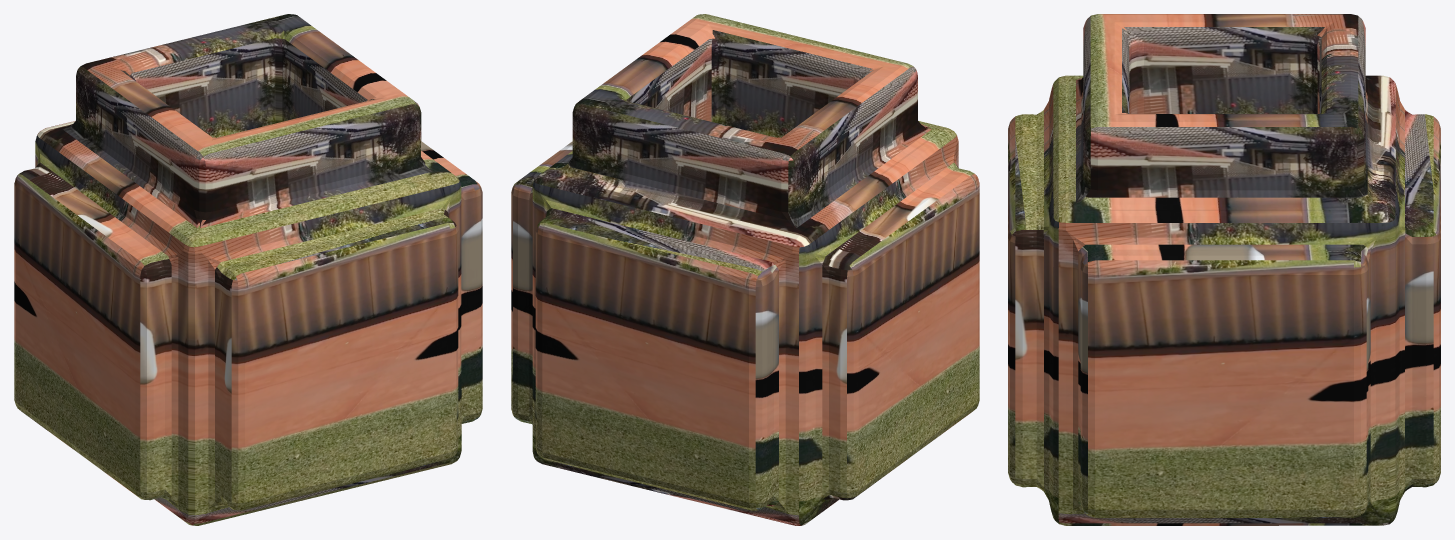
The model's file is cubel.glb.
The picture shows the model from 3 angles, left to right: view 1: azimuth 30°, elevation 25°; view 2: azimuth 150°, elevation 25°; view 3: azimuth 270°, elevation 25°; orthographic projection. The views are drawn at different scales.
Parts seen in each view (by area): view 1: Cube; view 2: Cube; view 3: Cube.
Part boxes in pixels (x1,y1,x2,y2): Cube: (14, 14, 482, 525); Cube: (511, 14, 979, 525); Cube: (1008, 14, 1440, 525).
Bounding box in the file's own units: 2.5 × 2.48 × 2.5.
Materials: 1 (1 with a texture image).
